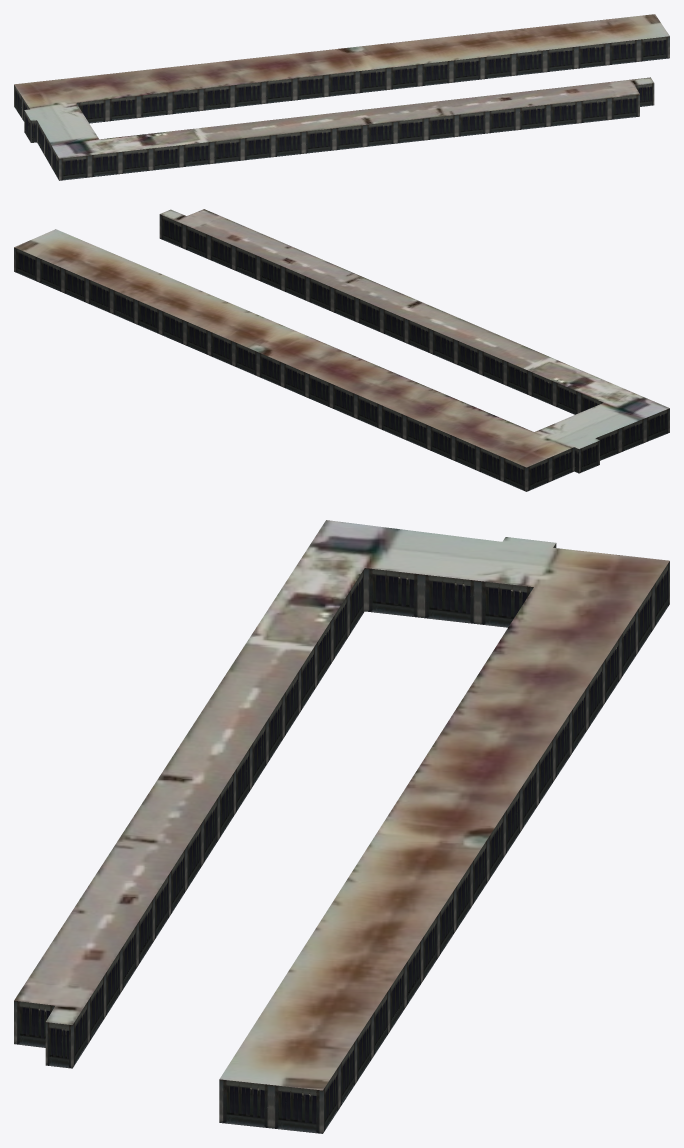
File: T_1T2VL4NVER.dae
3 views of the same model, one above another, from view 1: azimuth 30°, elevation 25°; view 2: azimuth 150°, elevation 25°; view 3: azimuth 270°, elevation 25° (orthographic). The views are drawn at different scales.
Parts seen in each view (by area): view 1: SketchUp (×6); view 2: SketchUp (×6); view 3: SketchUp (×7).
Boxes of the visible parts, x1=… form: SketchUp (×6): x1=14, y1=14, x2=669, y2=180; SketchUp (×6): x1=14, y1=209, x2=669, y2=491; SketchUp (×7): x1=14, y1=520, x2=669, y2=1133.
Size of the model in its own units: 125 by 60.59 by 4.43.
2 materials, 2 textured.
